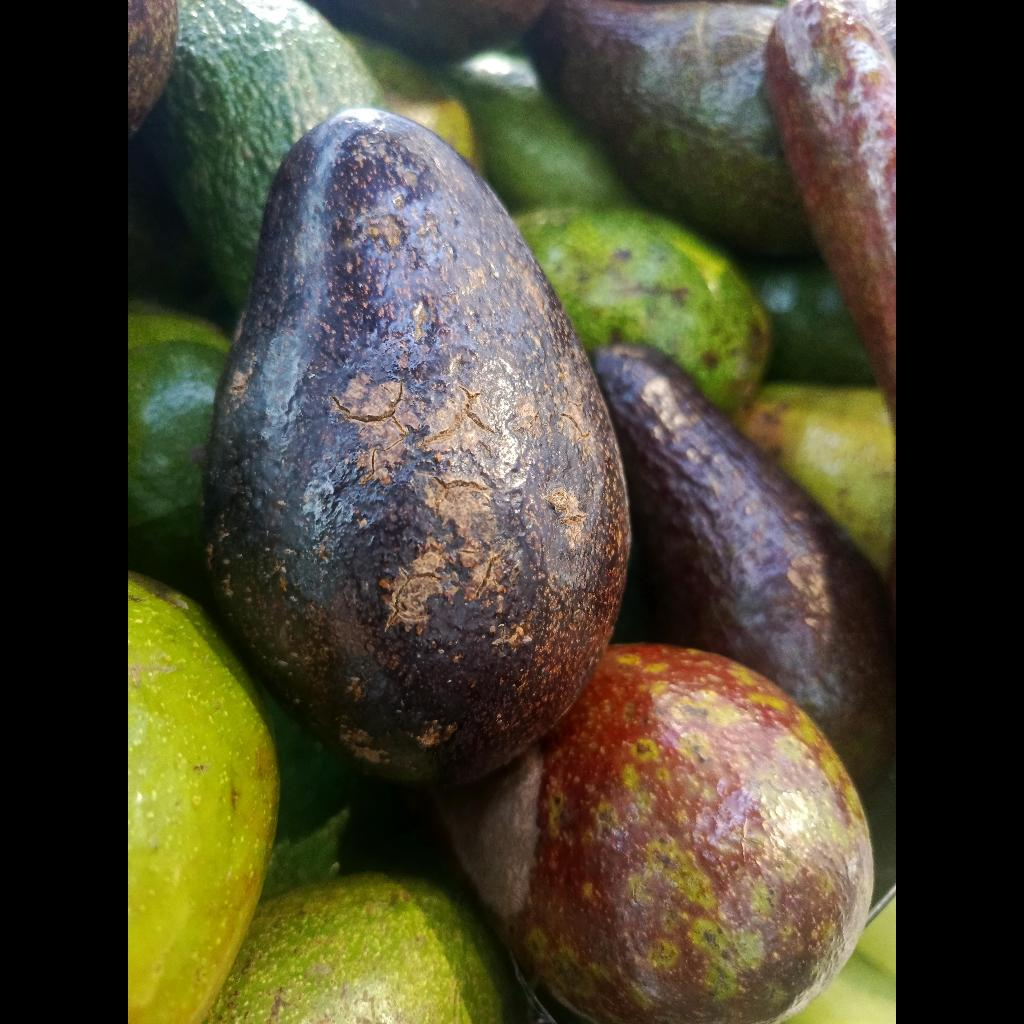anthracnose: (203, 108, 629, 782), (437, 643, 872, 1024), (595, 345, 896, 791)
healthy: (149, 0, 383, 306), (128, 575, 280, 1024)
scab: (517, 208, 771, 413)
